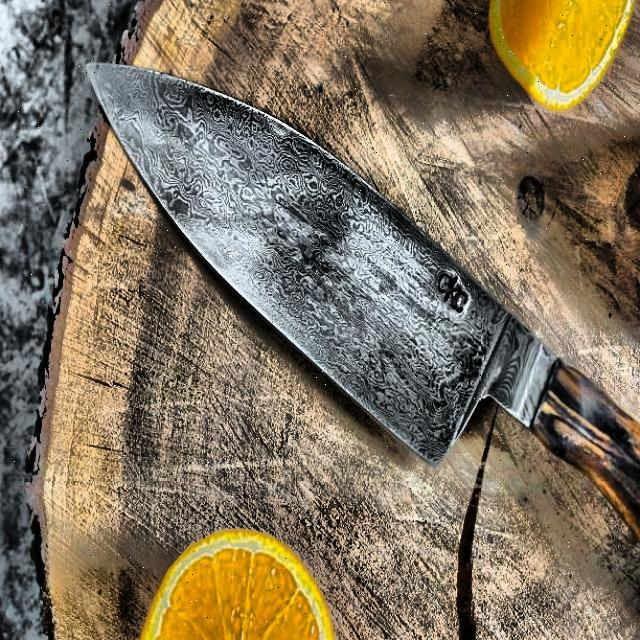knife: (83, 59, 640, 539)
